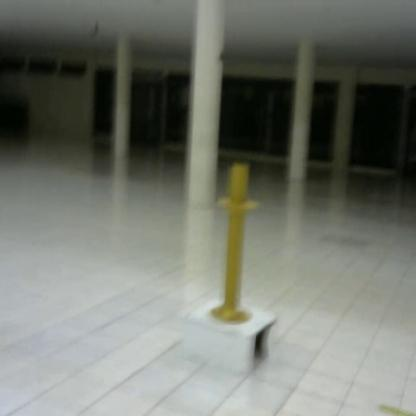pole: (207, 156, 262, 331)
